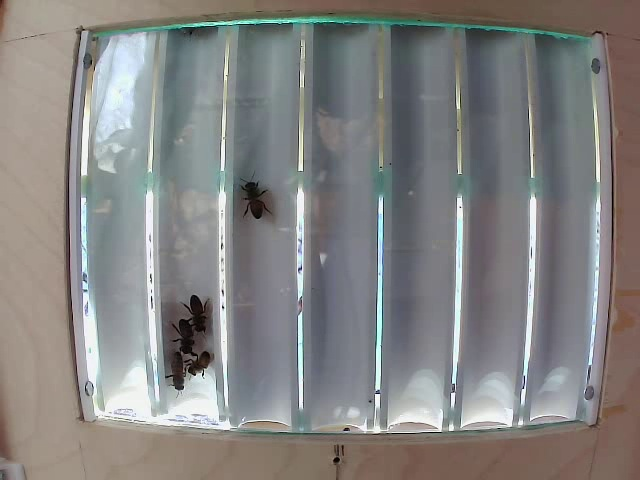bee: (164, 310, 195, 354), (187, 288, 214, 338), (239, 173, 272, 209), (183, 345, 210, 378), (161, 347, 178, 381)
